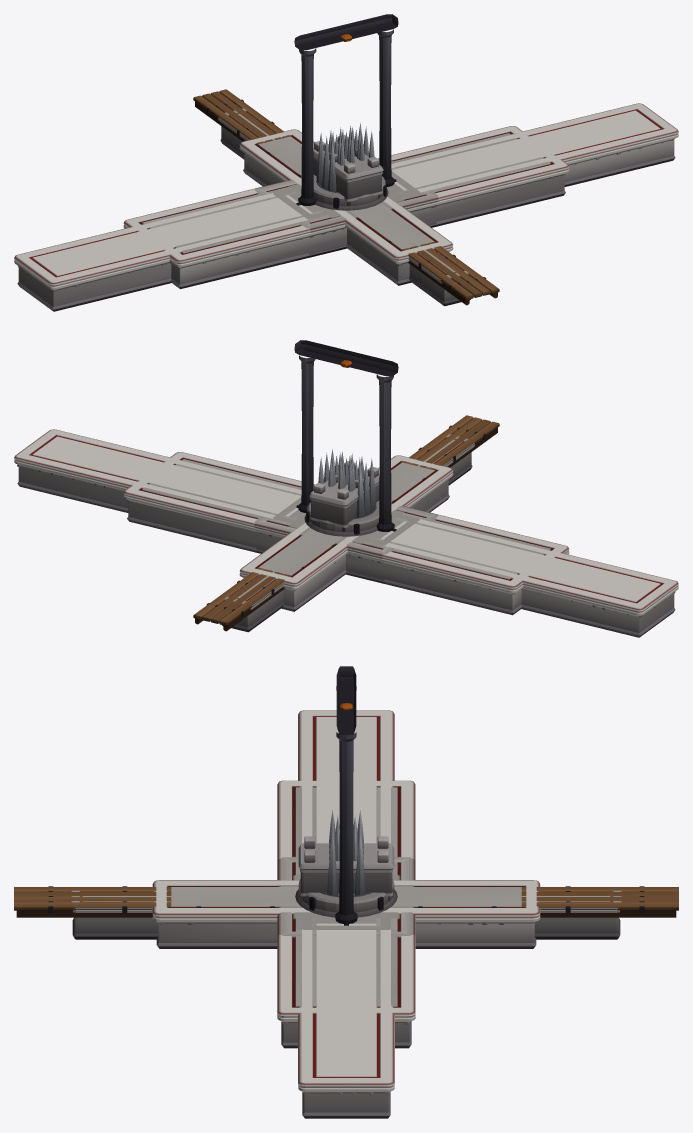
Rendered from fortress-2-BEKWOBSH.glb.
3 views of the same model, one above another, from view 1: azimuth 30°, elevation 25°; view 2: azimuth 150°, elevation 25°; view 3: azimuth 270°, elevation 25° (orthographic). The views are drawn at different scales.
Parts seen in each view (by area): view 1: block_64x2x7#0, block_40x2x10#0, block_6x2x28#0, pressFrame_6x6x2x7#0, block_3.5x2x48_plank#0, spout_2x5#0, block_3.5x2x40_grate#0, block_14x2x10#0, geyserVent_5#0, block_12x2x7#0, spikes_5x6x3#0, spikes_3x6x3#0; view 2: block_64x2x7#0, block_40x2x10#0, block_6x2x28#0, pressFrame_6x6x2x7#0, block_3.5x2x48_plank#0, spout_2x5#0, block_3.5x2x40_grate#0, block_14x2x10#0, geyserVent_5#0, block_12x2x7#0, spikes_5x6x3#0, spikes_3x6x3#0; view 3: block_64x2x7#0, block_6x2x28#0, block_40x2x10#0, block_3.5x2x48_plank#0, block_3.5x2x40_grate#0, pressFrame_6x6x2x7#0, spout_2x5#0, block_14x2x10#0, geyserVent_5#0, block_12x2x7#0, spikes_5x6x3#0.
Part boxes in pixels (x1=…): block_64x2x7#0: x1=14, y1=103, x2=678, y2=311; block_40x2x10#0: x1=123, y1=126, x2=569, y2=289; block_6x2x28#0: x1=239, y1=129, x2=453, y2=285; pressFrame_6x6x2x7#0: x1=294, y1=14, x2=398, y2=205; block_3.5x2x48_plank#0: x1=193, y1=89, x2=499, y2=305; spout_2x5#0: x1=313, y1=135, x2=383, y2=205; block_3.5x2x40_grate#0: x1=218, y1=108, x2=470, y2=306; block_14x2x10#0: x1=254, y1=158, x2=438, y2=257; geyserVent_5#0: x1=313, y1=174, x2=388, y2=210; block_12x2x7#0: x1=273, y1=171, x2=419, y2=219; spikes_5x6x3#0: x1=316, y1=122, x2=374, y2=191; spikes_3x6x3#0: x1=328, y1=126, x2=364, y2=165; block_64x2x7#0: x1=14, y1=429, x2=678, y2=637; block_40x2x10#0: x1=123, y1=452, x2=569, y2=615; block_6x2x28#0: x1=239, y1=455, x2=453, y2=611; pressFrame_6x6x2x7#0: x1=294, y1=340, x2=398, y2=531; block_3.5x2x48_plank#0: x1=193, y1=415, x2=499, y2=631; spout_2x5#0: x1=309, y1=461, x2=379, y2=531; block_3.5x2x40_grate#0: x1=222, y1=434, x2=474, y2=632; block_14x2x10#0: x1=254, y1=484, x2=438, y2=583; geyserVent_5#0: x1=304, y1=500, x2=379, y2=536; block_12x2x7#0: x1=273, y1=497, x2=419, y2=545; spikes_5x6x3#0: x1=318, y1=448, x2=376, y2=517; spikes_3x6x3#0: x1=328, y1=452, x2=364, y2=491; block_64x2x7#0: x1=298, y1=710, x2=394, y2=1118; block_6x2x28#0: x1=152, y1=880, x2=540, y2=948; block_40x2x10#0: x1=277, y1=780, x2=415, y2=1048; block_3.5x2x48_plank#0: x1=14, y1=886, x2=678, y2=917; block_3.5x2x40_grate#0: x1=70, y1=890, x2=622, y2=939; pressFrame_6x6x2x7#0: x1=335, y1=666, x2=357, y2=923; spout_2x5#0: x1=298, y1=836, x2=394, y2=901; block_14x2x10#0: x1=277, y1=856, x2=415, y2=937; geyserVent_5#0: x1=295, y1=879, x2=397, y2=917; block_12x2x7#0: x1=302, y1=907, x2=390, y2=929; spikes_5x6x3#0: x1=327, y1=810, x2=365, y2=895.
Bounding box in the file's own units: 64 × 20.4 × 48.
